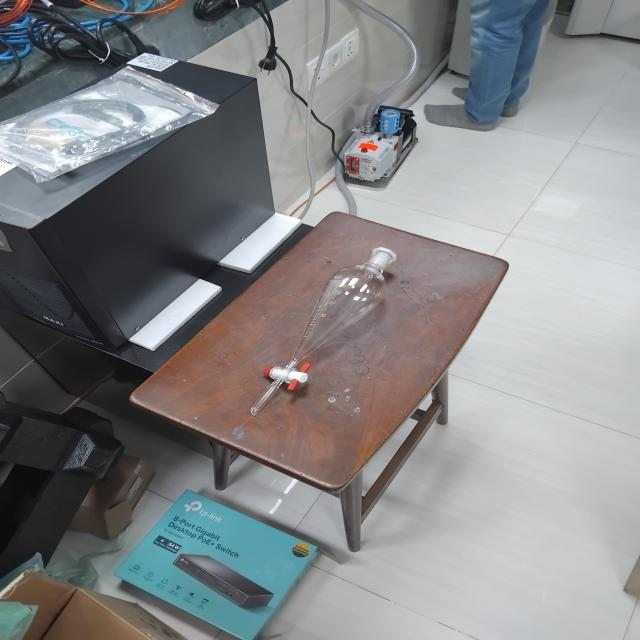Separating_Funnel: (232, 210, 430, 443)
